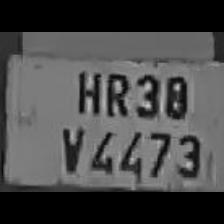3: (172, 127, 202, 182), (130, 64, 160, 118)
4: (86, 122, 116, 176), (116, 120, 142, 180)
7: (144, 125, 170, 180)
8: (159, 69, 189, 119)
H: (72, 62, 102, 118)
R: (103, 64, 130, 118)
V: (56, 118, 84, 174)
